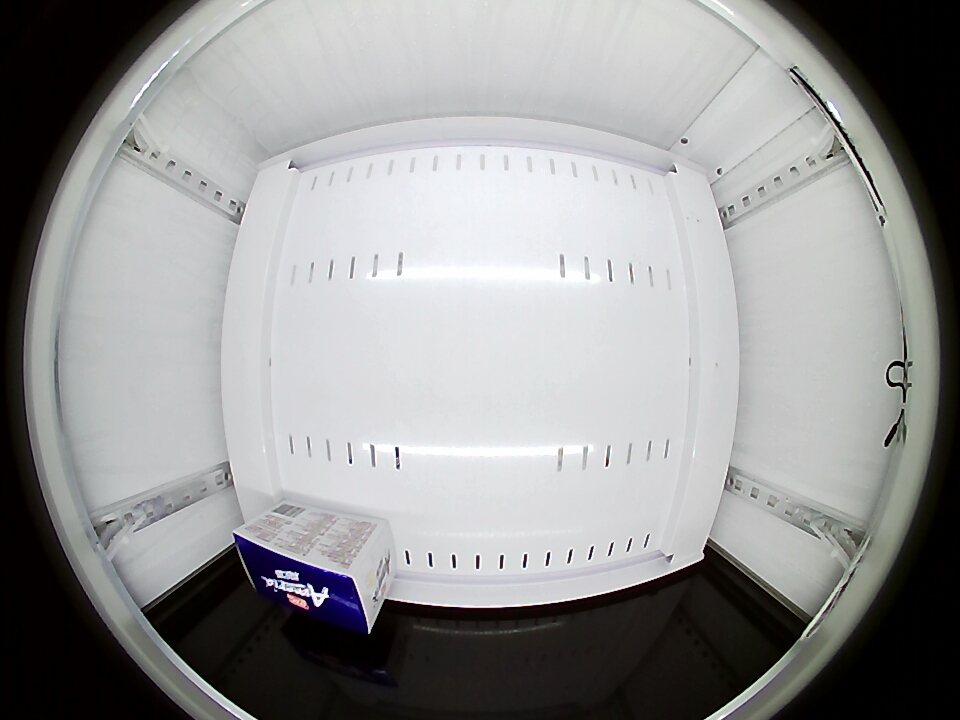meiniye: (231, 518, 385, 635)
